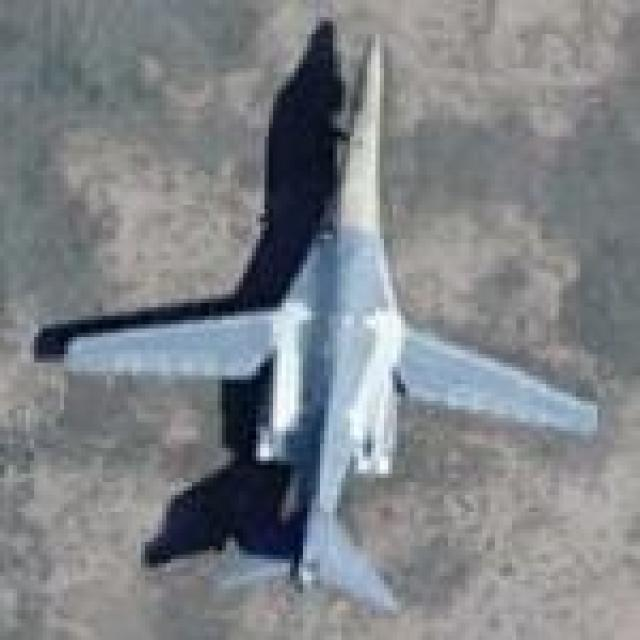B-1_TopDown: (26, 13, 602, 614)
